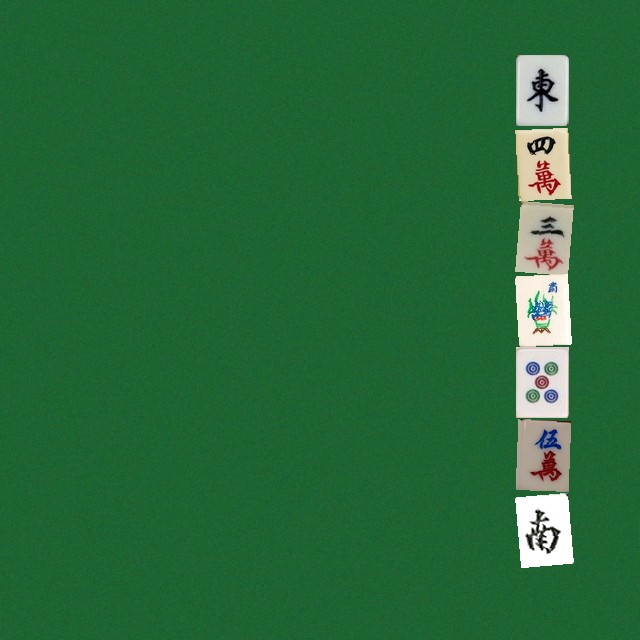tile: (515, 54, 568, 125), (515, 127, 568, 198), (515, 200, 568, 271), (515, 273, 568, 344), (515, 346, 568, 417), (515, 419, 568, 490), (515, 492, 568, 563)
